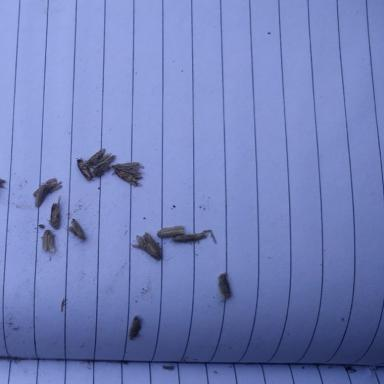pbw: (136, 231, 162, 260), (45, 194, 61, 230), (32, 177, 62, 196), (172, 229, 210, 243), (93, 154, 115, 176), (113, 169, 141, 186), (110, 161, 144, 175), (75, 157, 94, 182), (84, 148, 110, 165), (67, 218, 86, 240), (217, 272, 230, 298), (156, 225, 184, 237), (127, 315, 140, 340), (34, 186, 48, 208), (42, 229, 54, 252)
